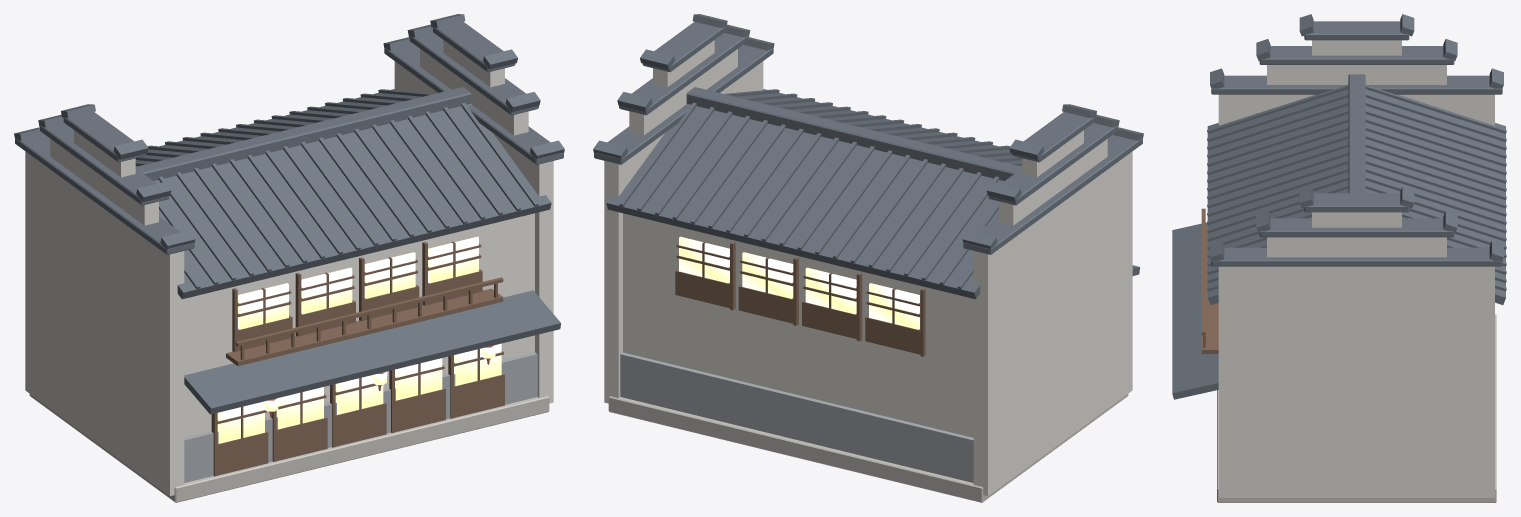
The model's file is huizhou-house.glb.
The picture shows the model from 3 angles, left to right: view 1: azimuth 30°, elevation 25°; view 2: azimuth 150°, elevation 25°; view 3: azimuth 270°, elevation 25°; orthographic projection. The views are drawn at different scales.
Visible parts, largest first — view 1: hz_tile, hz_white, hz_wood, hz_glow, hz_stone, hz_brick; view 2: hz_white, hz_tile, hz_brick, hz_wood, hz_stone, hz_glow; view 3: hz_white, hz_tile, hz_stone, hz_wood.
Part boxes in pixels (x1,y1,x2,y2): hz_tile: [14, 14, 564, 414]; hz_white: [25, 40, 553, 495]; hz_wood: [211, 241, 504, 476]; hz_glow: [217, 236, 501, 443]; hz_stone: [29, 394, 549, 502]; hz_brick: [184, 352, 537, 482]; hz_white: [604, 40, 1132, 495]; hz_tile: [593, 14, 1143, 299]; hz_brick: [620, 352, 973, 482]; hz_wood: [675, 241, 925, 356]; hz_stone: [608, 394, 1128, 502]; hz_glow: [679, 236, 919, 329]; hz_white: [1218, 40, 1494, 497]; hz_tile: [1172, 14, 1506, 399]; hz_stone: [1217, 314, 1496, 502]; hz_wood: [1201, 208, 1218, 353].
Bounding box in the file's own units: 13.18 × 10.26 × 10.05.
